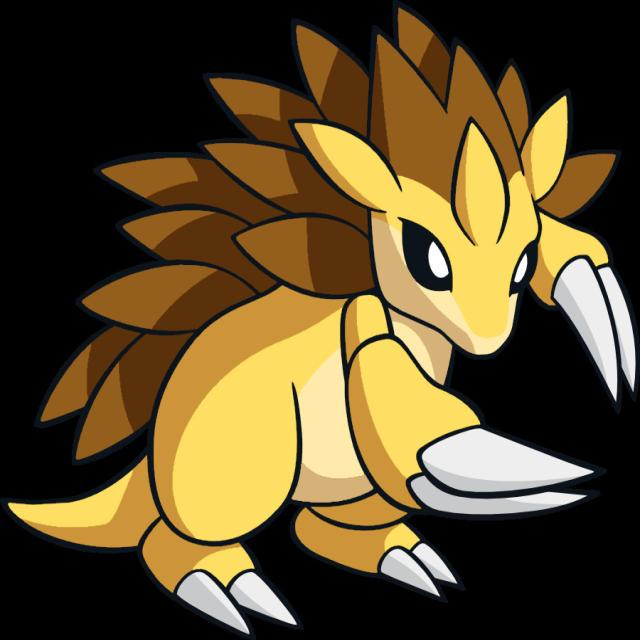Sandslash: (0, 2, 635, 640)
